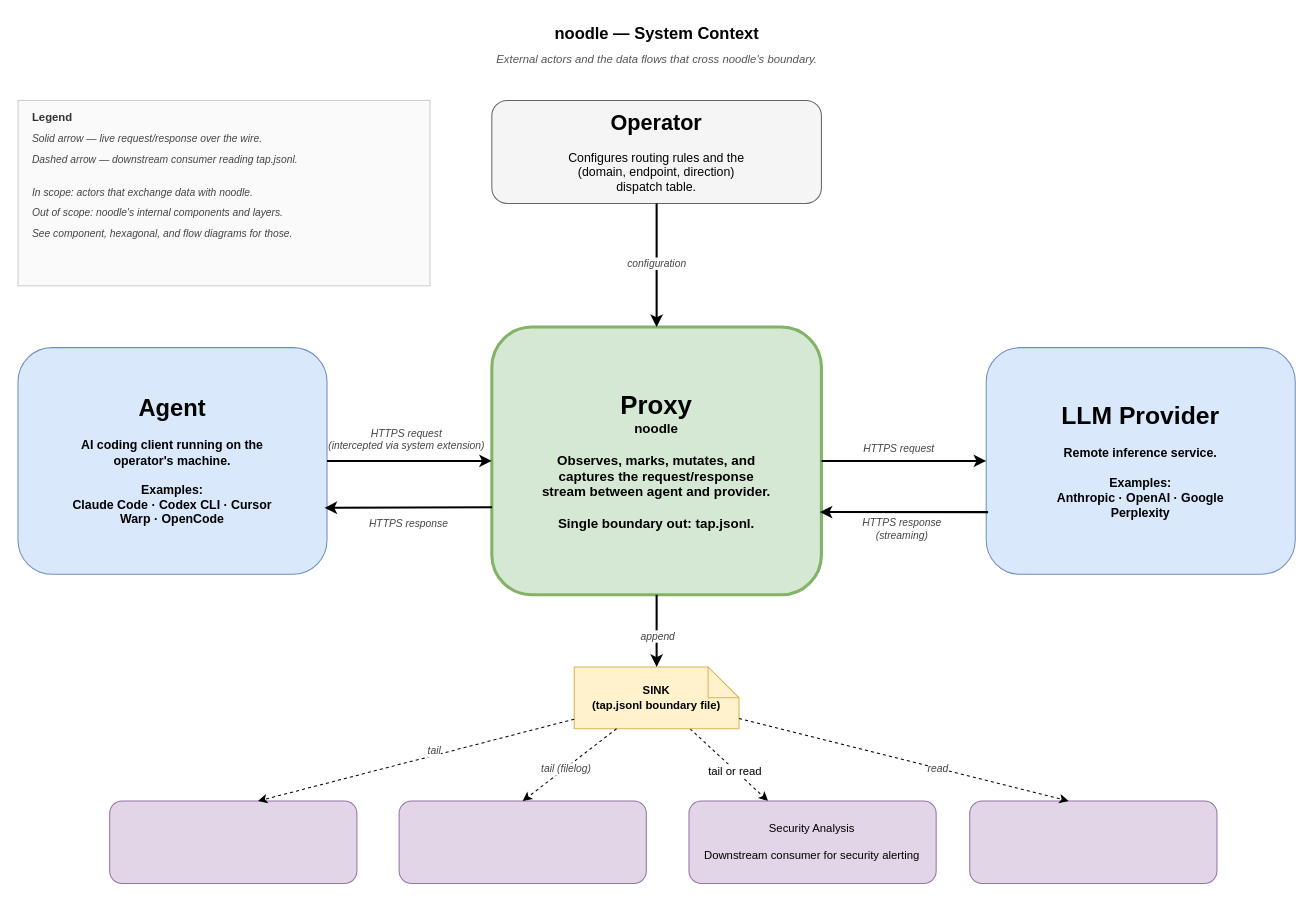
This 1313x901 diagram has some shape labels left out. The shapes that lost their labels are listed below. From the top down, each one's centre as x and y in pixels, then its label:
At point (233, 841): "TAP Viewer Operator-facing UI.".
At point (522, 841): "Telemetry Collector OpenTelemetry / external sinks.".
At point (1093, 841): "Behaviour & Usage Analysis Downstream consumers of the capture corpus.".
